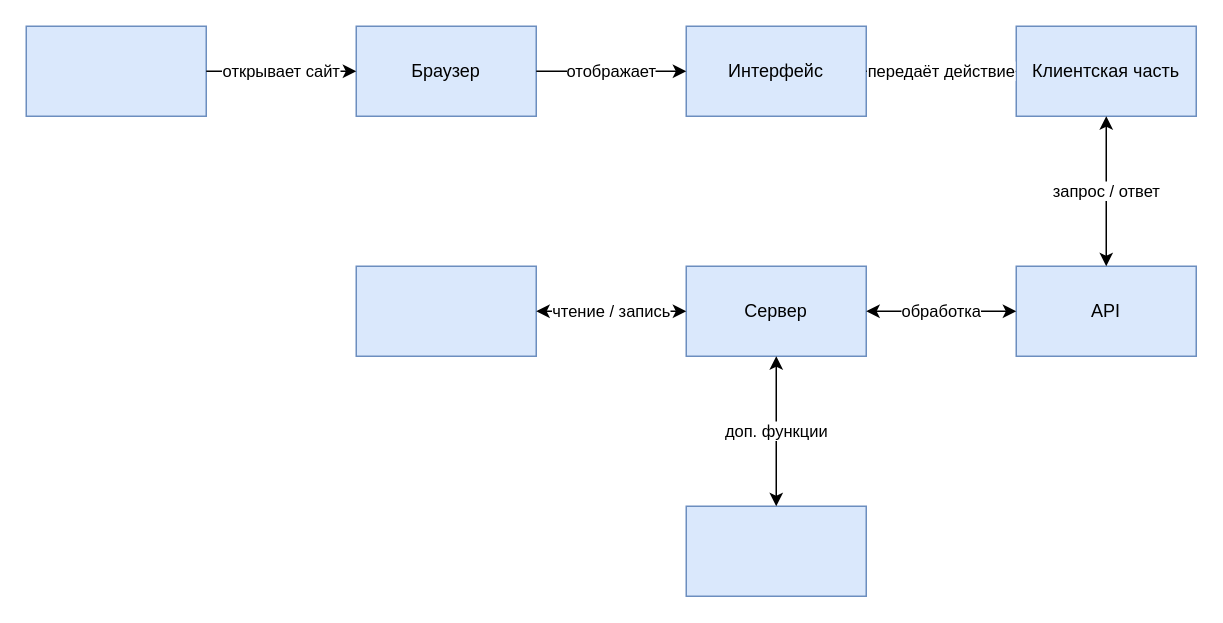
Image size: 1223x623. Some labels were removed from this diagram. The shapes that lost their labels are listed below. From the top down, each one's centre as x and y in pixels, then its label:
At point 115,70: "Пользователь".
At point 445,310: "Хранилище данных".
At point 775,550: "Внешние сервисы".
